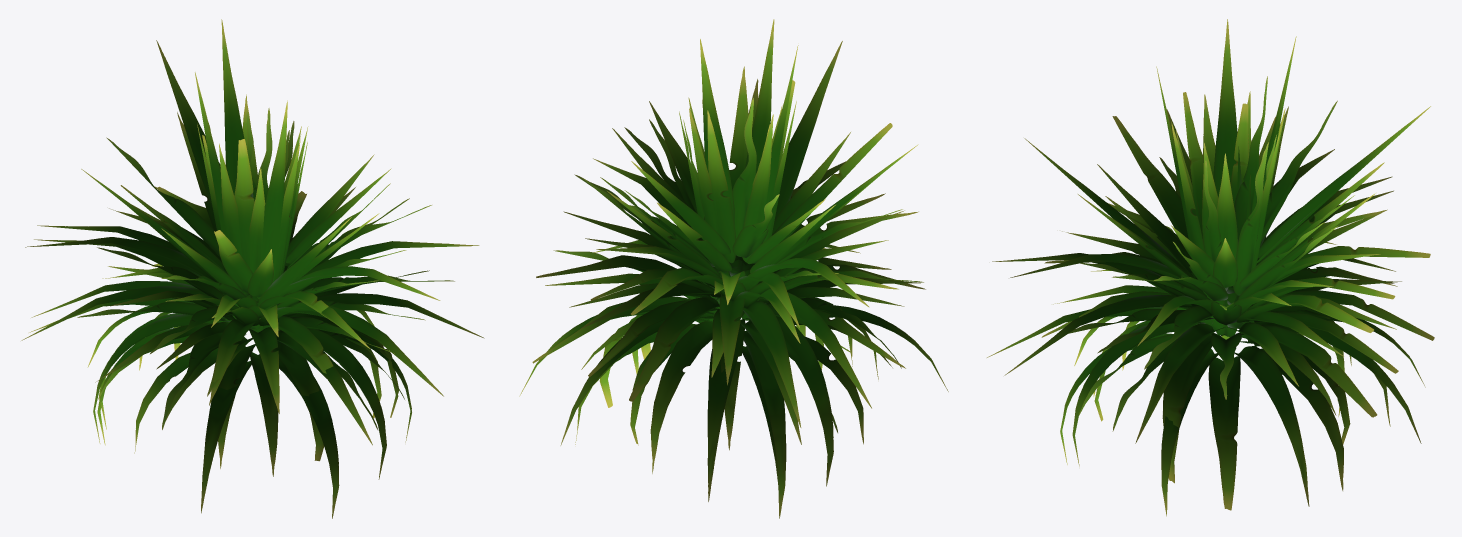
Rendered from YuccaLeaves 2.fbx.
3 views of the same model, side by side, from view 1: azimuth 30°, elevation 25°; view 2: azimuth 150°, elevation 25°; view 3: azimuth 270°, elevation 25° (orthographic). The views are drawn at different scales.
Parts seen in each view (by area): view 1: Cylinder; view 2: Cylinder; view 3: Cylinder.
Part boxes in pixels (x1,y1,x2,y2): Cylinder: (21, 19, 484, 518); Cylinder: (519, 19, 948, 518); Cylinder: (987, 19, 1434, 516).
Bounding box in the file's own units: 2.32 × 2.54 × 2.45.
